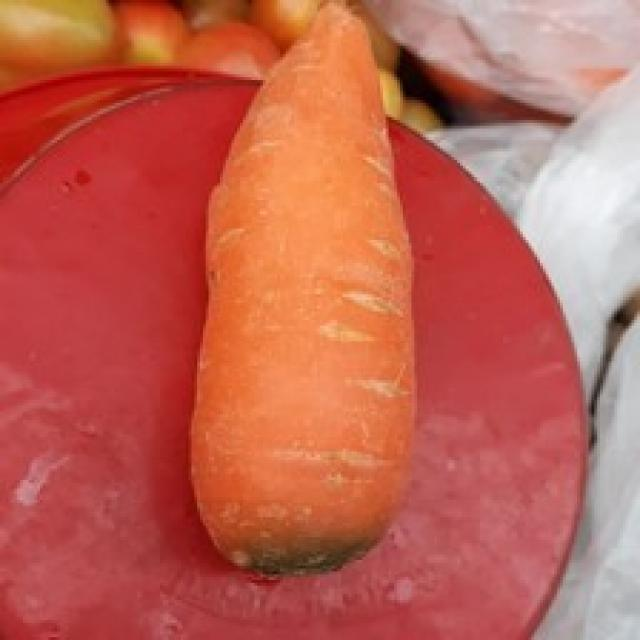carrot: (186, 8, 424, 575)
